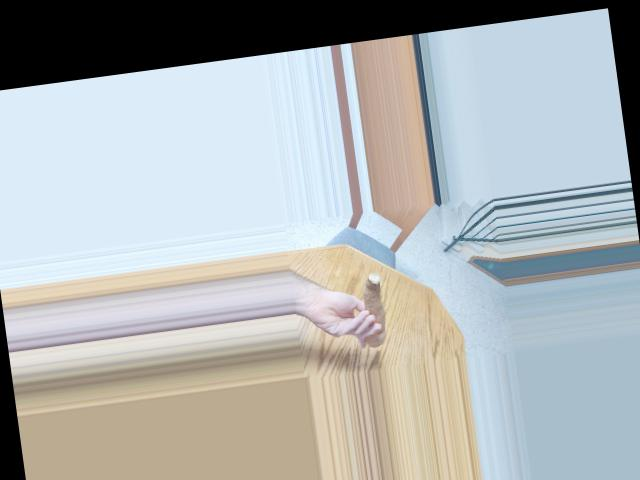sweet_potato: (362, 270, 386, 335)
